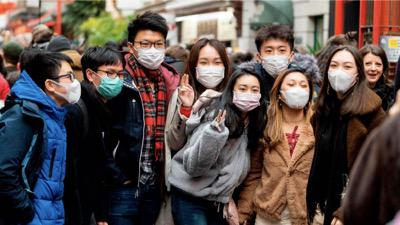with_mask: (133, 36, 165, 71), (259, 43, 290, 77), (94, 67, 124, 99), (196, 55, 225, 88), (57, 69, 83, 105), (231, 82, 262, 112), (329, 59, 357, 92), (280, 78, 309, 108)
without_mask: (361, 59, 383, 82)
